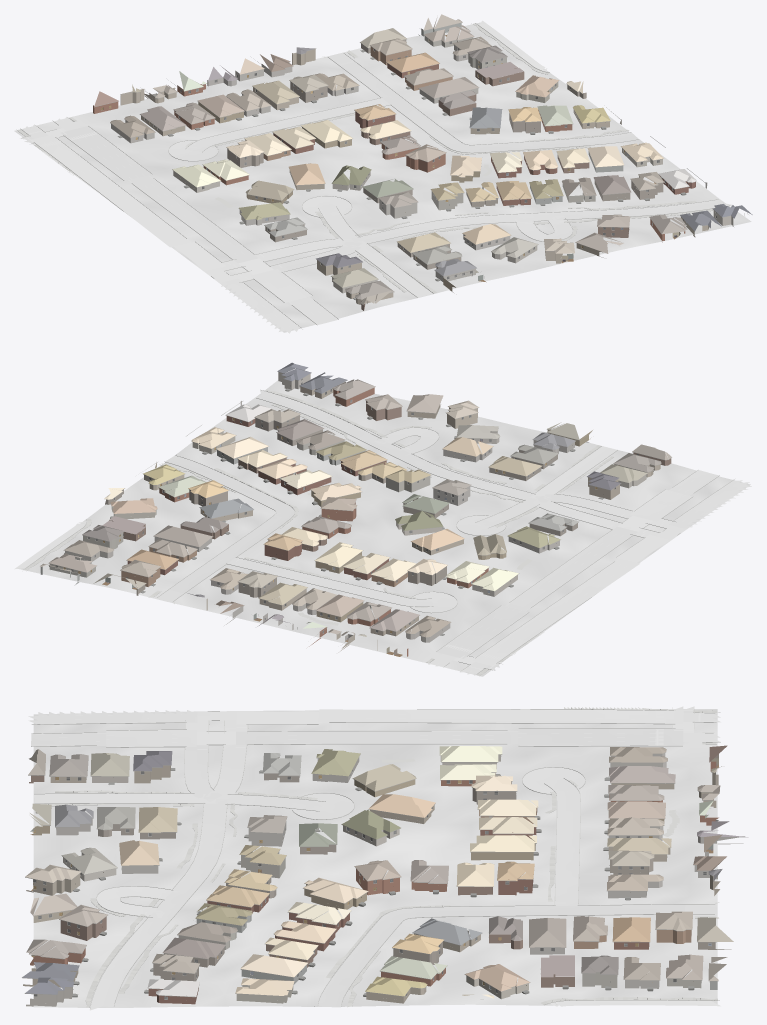
The picture shows the model from 3 angles, top to bottom: view 1: azimuth 30°, elevation 25°; view 2: azimuth 150°, elevation 25°; view 3: azimuth 270°, elevation 25°; orthographic projection. The views are drawn at different scales.
Visible parts, largest first — view 1: ground, roof, concrete, asphalt, wall, wall_stucco, curb, detail, walk, wall_stone, mark_w, glass; view 2: ground, roof, concrete, asphalt, wall, detail, curb, wall_stucco, walk, wall_stone, mark_w, glass; view 3: ground, roof, concrete, asphalt, wall, curb, wall_stucco, detail, walk, wall_stone, mark_w, glass (+1 smaller).
Boxes of the visible parts, left/top/right/bottom form: ground: left=14, top=22, right=751, bottom=332; roof: left=94, top=14, right=752, bottom=304; concrete: left=169, top=20, right=732, bottom=297; asphalt: left=20, top=117, right=338, bottom=333; wall: left=93, top=39, right=709, bottom=310; wall_stucco: left=120, top=23, right=733, bottom=304; curb: left=18, top=23, right=731, bottom=328; detail: left=94, top=22, right=748, bottom=304; walk: left=17, top=23, right=729, bottom=293; wall_stone: left=111, top=45, right=707, bottom=281; mark_w: left=22, top=102, right=563, bottom=328; glass: left=145, top=41, right=716, bottom=279; ground: left=18, top=380, right=750, bottom=676; roof: left=40, top=362, right=671, bottom=637; concrete: left=14, top=390, right=686, bottom=612; asphalt: left=428, top=470, right=751, bottom=674; wall: left=105, top=378, right=671, bottom=656; detail: left=48, top=369, right=671, bottom=652; curb: left=23, top=390, right=734, bottom=675; wall_stucco: left=40, top=370, right=660, bottom=652; walk: left=24, top=390, right=613, bottom=675; wall_stone: left=65, top=401, right=574, bottom=642; mark_w: left=236, top=438, right=743, bottom=674; glass: left=55, top=378, right=638, bottom=633; ground: left=33, top=708, right=717, bottom=1007; roof: left=22, top=745, right=748, bottom=998; concrete: left=34, top=712, right=720, bottom=1010; asphalt: left=28, top=706, right=720, bottom=746; wall: left=23, top=757, right=731, bottom=1004; curb: left=31, top=706, right=720, bottom=1008; wall_stucco: left=26, top=755, right=718, bottom=1006; detail: left=22, top=751, right=744, bottom=1003; walk: left=40, top=707, right=719, bottom=1007; wall_stone: left=56, top=753, right=744, bottom=988; mark_w: left=31, top=709, right=720, bottom=914; glass: left=33, top=770, right=718, bottom=999.
Bounding box in the file's own units: 255 × 12.98 × 270.
